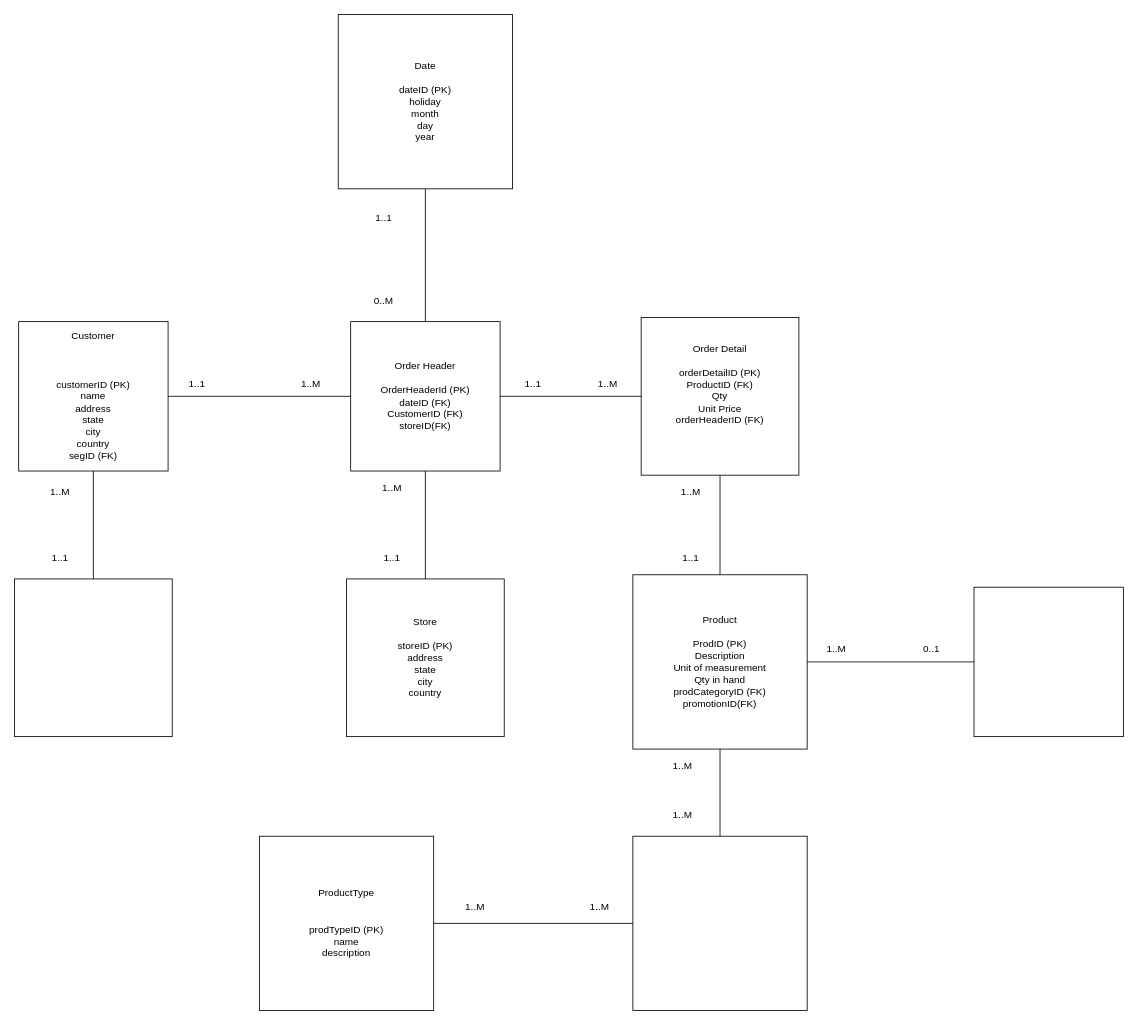
The diagram is 1138 pixels wide and 1025 high, and some of its shapes have lost their labels. Each missing label, with the box of its shape:
Customer segment segID (PK) segmentName: (14, 578, 172, 737)
ProductCategory prodCategoryID (PK) categoryName description prodTypeID (FK): (632, 835, 807, 1011)
Promotion promotionID (PK) promotionName discount: (973, 586, 1123, 737)
